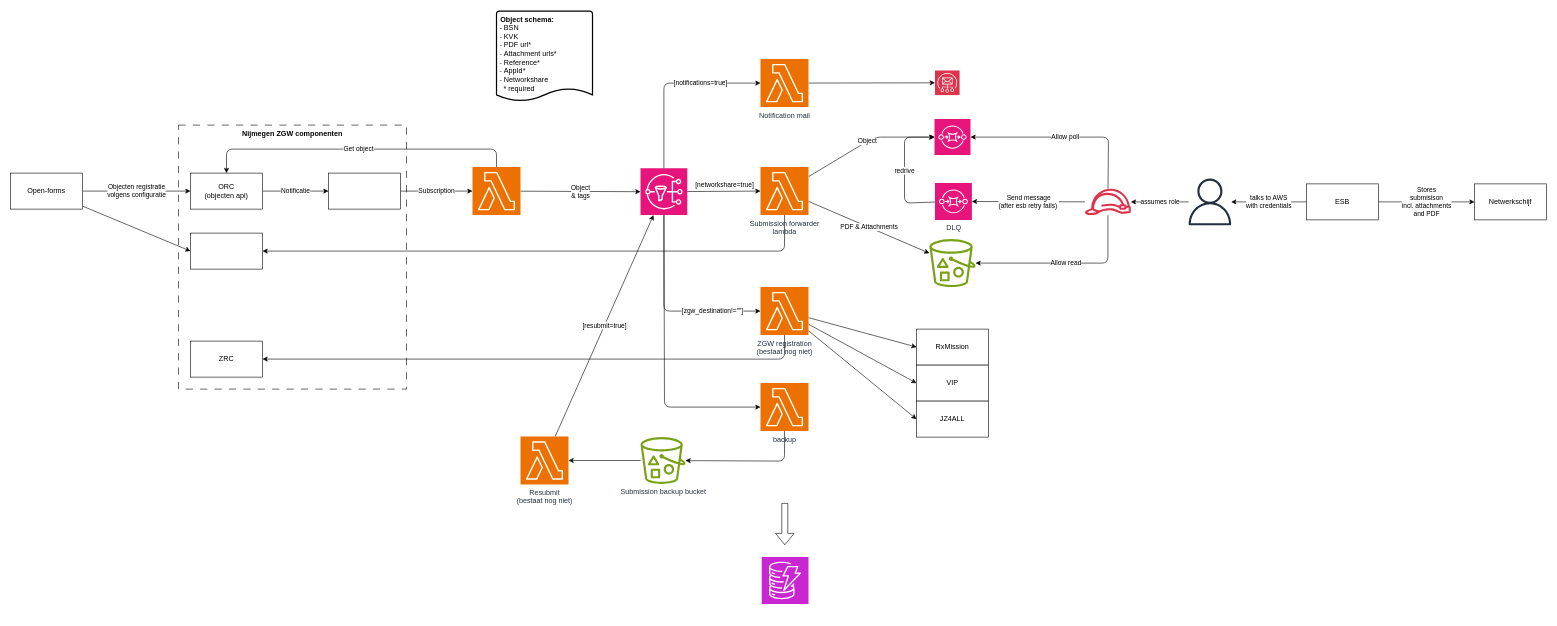
Image size: 1557x626. Some labels were removed from this diagram. Each missing label, with the centre of its shape:
"DRC" goes at pixel 226 250.
"ESB queue" goes at pixel 952 136.
"ESB role" goes at pixel 1107 201.
"Esb user" goes at pixel 1209 201.
"NRC" goes at pixel 364 190.
"Receiver lambda" goes at pixel 496 190.
"SES" goes at pixel 947 82.
"Topic" goes at pixel 663 191.
"Trace table" goes at pixel 784 580.
